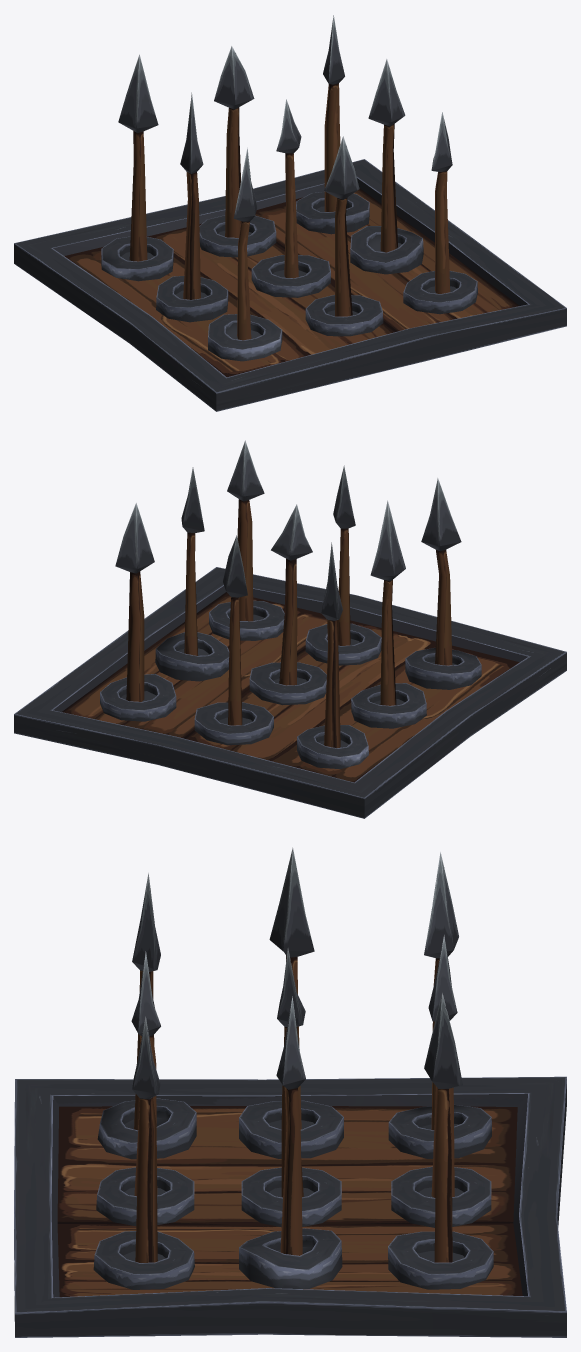
File: SM_PROP_trap_floor_dungeon_05.fbx
3 views of the same model, one above another, from view 1: azimuth 30°, elevation 25°; view 2: azimuth 150°, elevation 25°; view 3: azimuth 270°, elevation 25° (orthographic). The views are drawn at different scales.
Parts seen in each view (by area): view 1: SM_PROP_trap_floor_dungeon_05, SM_PROP_trap_floor_spikes_dungeon_05; view 2: SM_PROP_trap_floor_dungeon_05, SM_PROP_trap_floor_spikes_dungeon_05; view 3: SM_PROP_trap_floor_dungeon_05, SM_PROP_trap_floor_spikes_dungeon_05.
Part boxes in pixels (<box>): SM_PROP_trap_floor_dungeon_05: <box>14,159,566,411</box>; SM_PROP_trap_floor_spikes_dungeon_05: <box>118,15,452,340</box>; SM_PROP_trap_floor_dungeon_05: <box>14,567,566,818</box>; SM_PROP_trap_floor_spikes_dungeon_05: <box>115,440,461,748</box>; SM_PROP_trap_floor_dungeon_05: <box>14,1076,566,1337</box>; SM_PROP_trap_floor_spikes_dungeon_05: <box>131,847,462,1262</box>.
Size of the model in its own units: 200 by 124 by 201.
